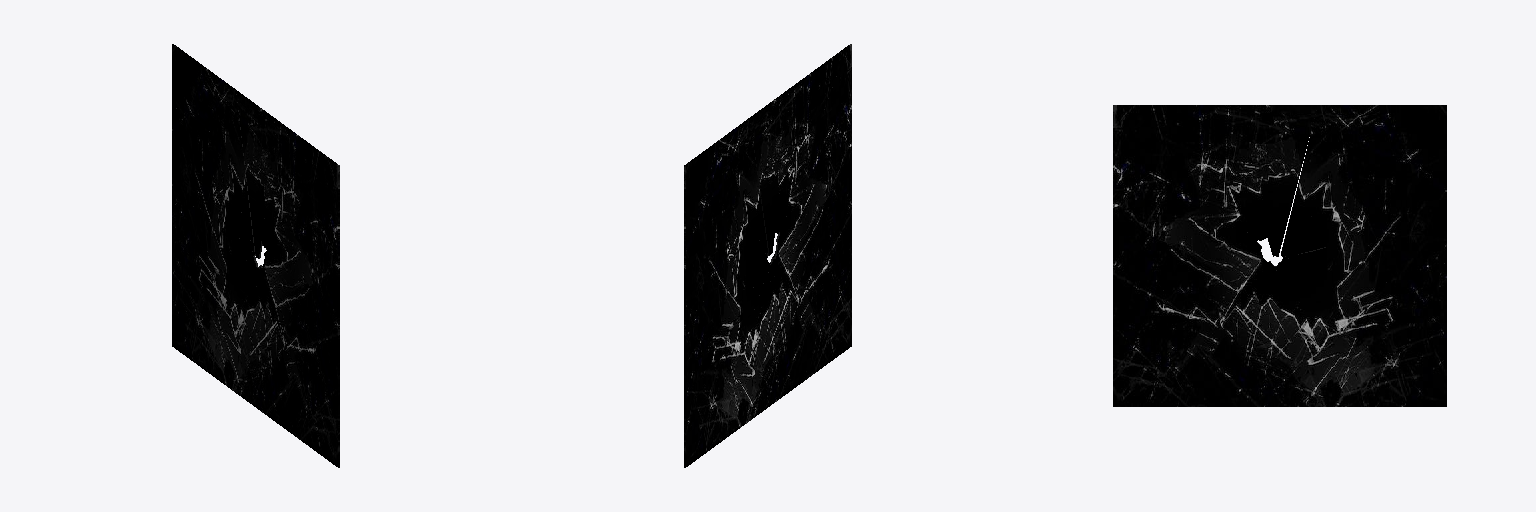
The picture shows the model from 3 angles: view 1: azimuth 30°, elevation 25°; view 2: azimuth 150°, elevation 25°; view 3: azimuth 270°, elevation 25°; orthographic projection.
Parts seen in each view (by area): view 1: Cube_Material.001, Cube_Material; view 2: Cube_Material.001, Cube_Material; view 3: Cube_Material.001.
Boxes of the visible parts, x1=… form: Cube_Material.001: x1=172, y1=45, x2=337, y2=466; Cube_Material: x1=172, y1=44, x2=339, y2=467; Cube_Material.001: x1=686, y1=45, x2=851, y2=466; Cube_Material: x1=684, y1=44, x2=851, y2=467; Cube_Material.001: x1=1113, y1=105, x2=1446, y2=406.
Size of the model in its own units: 0.0124 by 2 by 2.
2 materials, 1 textured.